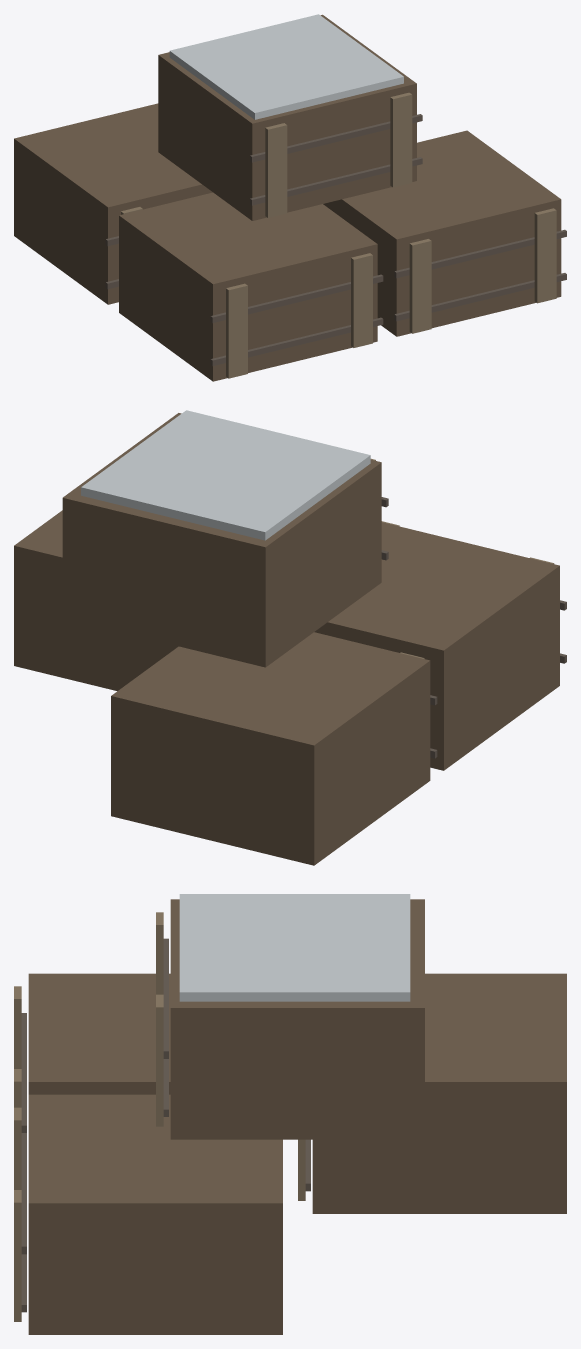
The model's file is fish_crate_stack.glb.
The picture shows the model from 3 angles, top to bottom: view 1: azimuth 30°, elevation 25°; view 2: azimuth 150°, elevation 25°; view 3: azimuth 270°, elevation 25°; orthographic projection. The views are drawn at different scales.
Parts seen in each view (by area): view 1: fish_crate_stack; view 2: fish_crate_stack; view 3: fish_crate_stack.
Boxes of the visible parts, x1,y1,x2,y2 form: fish_crate_stack: (14,14,566,381); fish_crate_stack: (14,410,566,865); fish_crate_stack: (14,894,566,1334).
Size of the model in its own units: 2 by 1.1 by 2.
